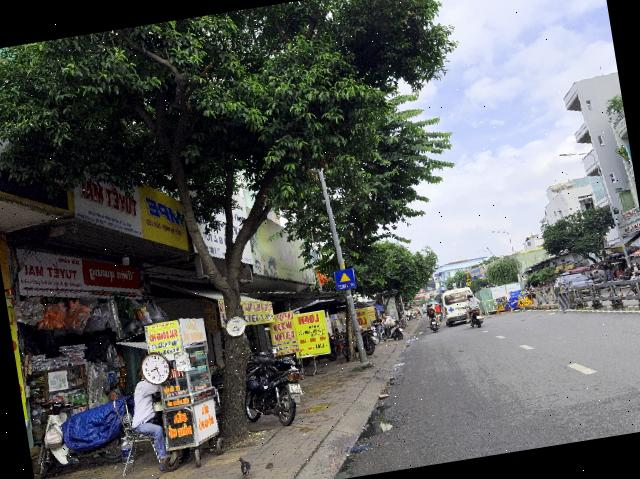khu-vuc-cho-phia-truoc: (333, 268, 356, 292)
